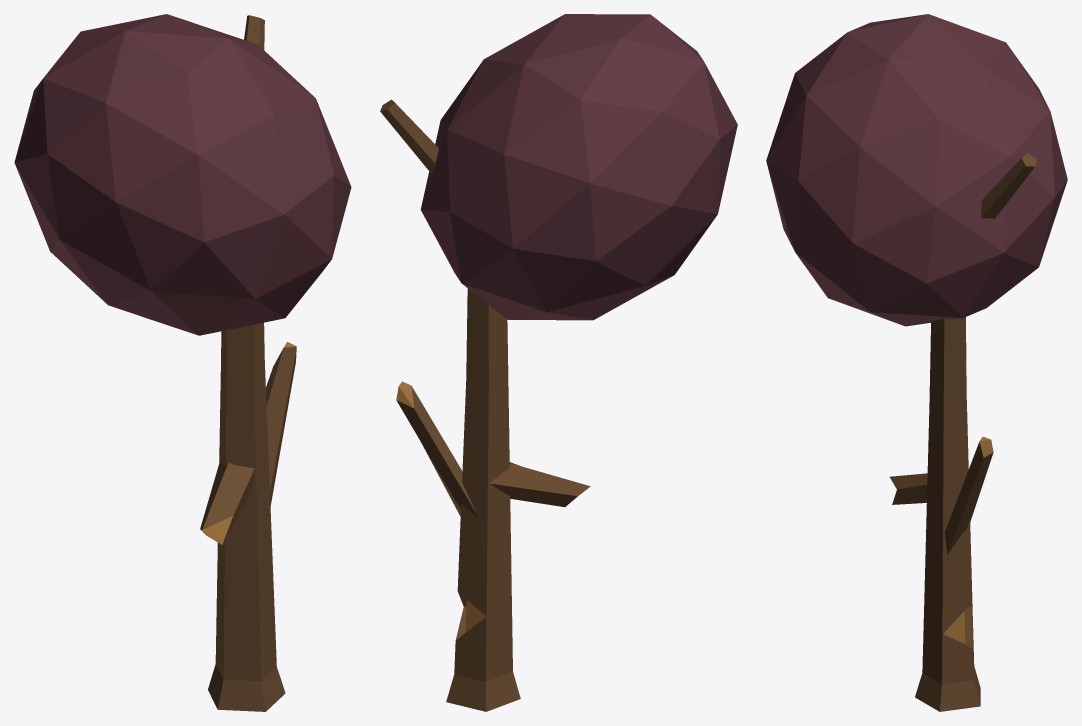
Rendered from tree-torn-a.fbx.
3 renders of one model, left to right at view 1: azimuth 30°, elevation 25°; view 2: azimuth 150°, elevation 25°; view 3: azimuth 270°, elevation 25°, orthographic. The views are drawn at different scales.
Parts seen in each view (by area): view 1: tree-torn-a; view 2: tree-torn-a; view 3: tree-torn-a.
Part boxes in pixels (x1=…): tree-torn-a: x1=14, y1=14, x2=351, y2=711; tree-torn-a: x1=380, y1=14, x2=737, y2=711; tree-torn-a: x1=766, y1=14, x2=1067, y2=711.
Size of the model in its own units: 3.05 by 7.06 by 3.09.
